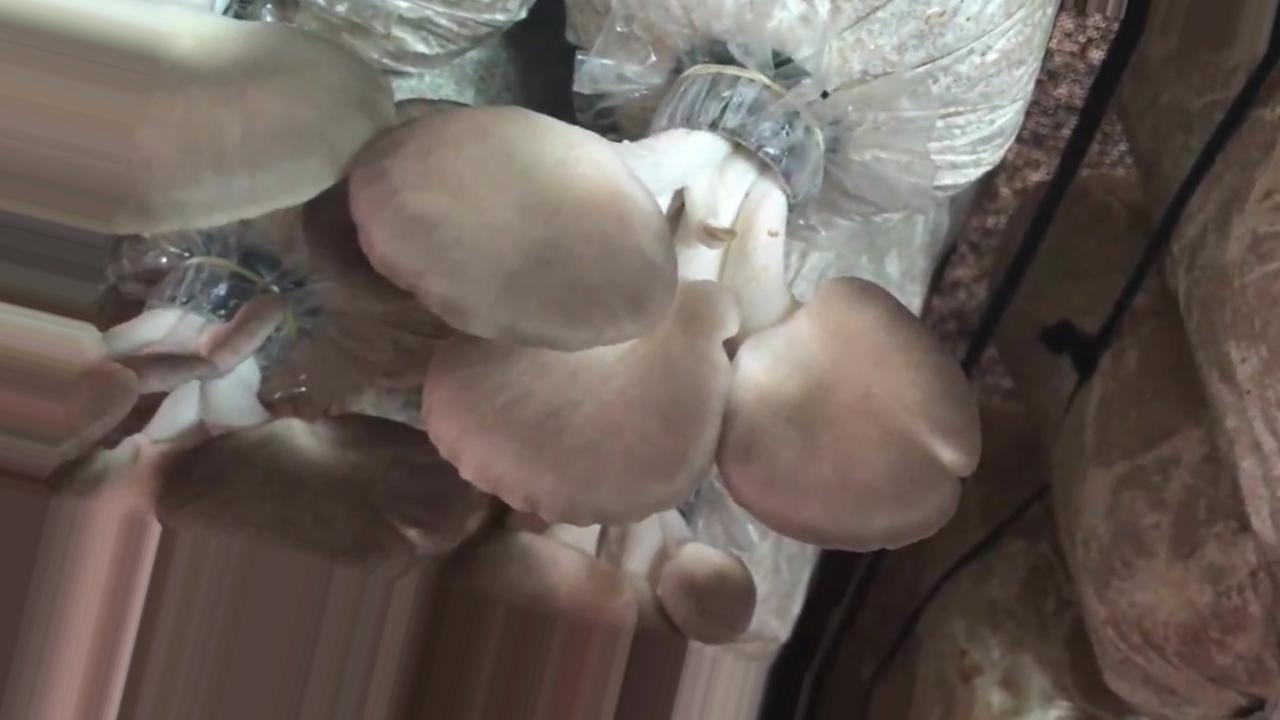nam: (349, 64, 984, 553), (1, 249, 482, 720), (390, 509, 755, 720)
